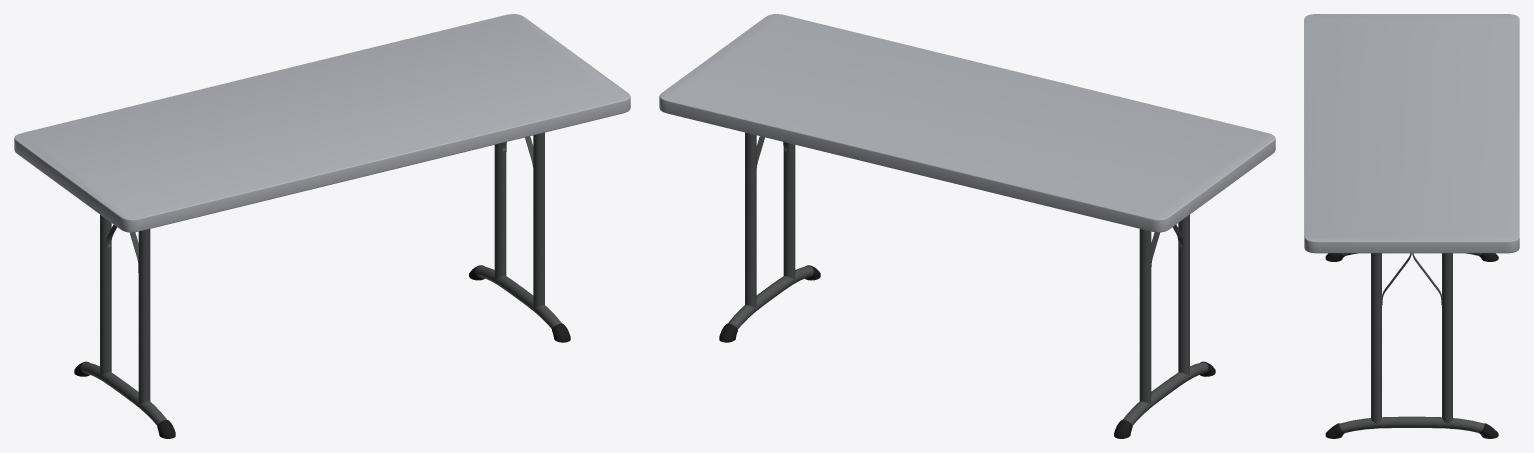
File: EventTable01.FBX
3 renders of one model, left to right at view 1: azimuth 30°, elevation 25°; view 2: azimuth 150°, elevation 25°; view 3: azimuth 270°, elevation 25°, orthographic. The views are drawn at different scales.
Parts seen in each view (by area): view 1: EventTable01; view 2: EventTable01; view 3: EventTable01.
Boxes of the visible parts, <box> form: EventTable01: <box>14,14,630,438</box>; EventTable01: <box>659,14,1275,438</box>; EventTable01: <box>1304,14,1519,438</box>.
Size of what is drawn, in the model's own units: 2 by 0.9 by 0.8.
